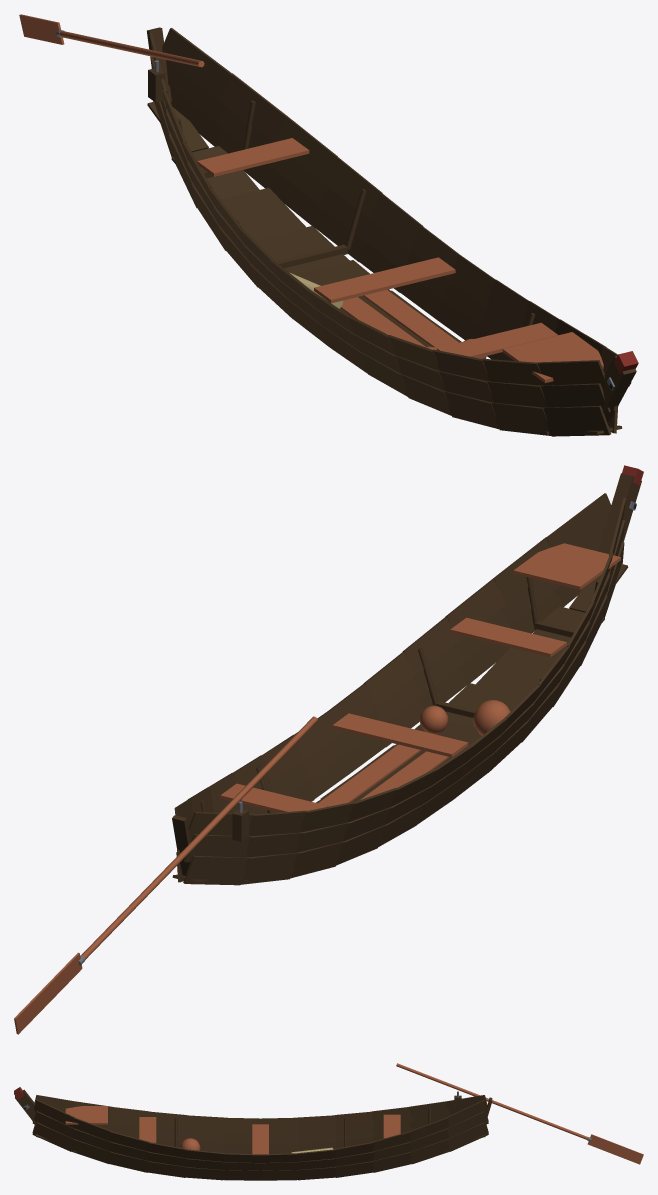
Rendered from vietnamese-sampan.glb.
The picture shows the model from 3 angles, top to bottom: view 1: azimuth 30°, elevation 25°; view 2: azimuth 150°, elevation 25°; view 3: azimuth 270°, elevation 25°; orthographic projection. The views are drawn at different scales.
Visible parts, largest first — view 1: Mesh_Bench_1, Mesh_ForwardDeck, Mesh_PlankMesh_0_2_R, Mesh_Bench_0, Mesh_PlankMesh_1_2_R, Mesh_Bench_2, Mesh_DeckSlatR, Mesh_PlankMesh_11_0_L, Mesh_PlankMesh_3_2_R, Mesh_PlankMesh_2_2_R, Mesh_PlankMesh_4_2_R, Mesh_PlankMesh_11_2_L (+43 smaller); view 2: Mesh_ForwardDeck, Mesh_Bench_1, Mesh_OarShaft, Mesh_Bench_2, Mesh_DeckSlatR, Mesh_PlankMesh_11_2_R, Mesh_PlankMesh_0_0_L, Mesh_PlankMesh_8_2_R, Mesh_PlankMesh_9_2_R, Mesh_Bench_0, Mesh_PlankMesh_7_2_R, Mesh_OarBlade (+28 smaller); view 3: Mesh_OarShaft, Mesh_ForwardDeck, Mesh_OarBlade, Mesh_PlankMesh_1_2_L, Mesh_PlankMesh_3_2_L, Mesh_PlankMesh_4_2_L, Mesh_PlankMesh_7_2_L, Mesh_PlankMesh_9_2_L, Mesh_PlankMesh_0_0_R, Mesh_PlankMesh_11_0_R, Mesh_PlankMesh_1_0_R, Mesh_PlankMesh_10_0_R (+56 smaller).
Part boxes in pixels (left/top/right/bottom): Mesh_Bench_1: left=314, top=257, right=455, bottom=303; Mesh_ForwardDeck: left=502, top=332, right=603, bottom=382; Mesh_PlankMesh_0_2_R: left=162, top=28, right=233, bottom=100; Mesh_Bench_0: left=197, top=138, right=309, bottom=176; Mesh_PlankMesh_1_2_R: left=219, top=73, right=288, bottom=142; Mesh_Bench_2: left=437, top=322, right=557, bottom=357; Mesh_DeckSlatR: left=363, top=290, right=458, bottom=347; Mesh_PlankMesh_11_0_L: left=542, top=405, right=611, bottom=436; Mesh_PlankMesh_3_2_R: left=324, top=157, right=382, bottom=219; Mesh_PlankMesh_2_2_R: left=275, top=117, right=337, bottom=183; Mesh_PlankMesh_4_2_R: left=369, top=193, right=422, bottom=251; Mesh_PlankMesh_11_2_L: left=536, top=360, right=605, bottom=389; Mesh_ForwardDeck: left=513, top=543, right=620, bottom=589; Mesh_Bench_1: left=332, top=713, right=468, bottom=757; Mesh_OarShaft: left=81, top=716, right=317, bottom=959; Mesh_Bench_2: left=450, top=617, right=566, bottom=657; Mesh_DeckSlatR: left=318, top=744, right=420, bottom=806; Mesh_PlankMesh_11_2_R: left=546, top=493, right=611, bottom=547; Mesh_PlankMesh_0_0_L: left=183, top=855, right=249, bottom=885; Mesh_PlankMesh_8_2_R: left=402, top=617, right=458, bottom=677; Mesh_PlankMesh_9_2_R: left=445, top=579, right=506, bottom=642; Mesh_Bench_0: left=220, top=783, right=327, bottom=812; Mesh_PlankMesh_7_2_R: left=363, top=652, right=415, bottom=707; Mesh_OarBlade: left=14, top=952, right=82, bottom=1034; Mesh_OarShaft: left=396, top=1063, right=587, bottom=1139; Mesh_ForwardDeck: left=65, top=1106, right=107, bottom=1124; Mesh_OarBlade: left=587, top=1134, right=643, bottom=1164; Mesh_PlankMesh_1_2_L: left=409, top=1101, right=449, bottom=1122; Mesh_PlankMesh_3_2_L: left=334, top=1111, right=374, bottom=1130; Mesh_PlankMesh_4_2_L: left=297, top=1115, right=336, bottom=1131; Mesh_PlankMesh_7_2_L: left=184, top=1115, right=223, bottom=1131; Mesh_PlankMesh_9_2_L: left=109, top=1107, right=149, bottom=1125; Mesh_PlankMesh_0_0_R: left=446, top=1122, right=488, bottom=1151; Mesh_PlankMesh_11_0_R: left=32, top=1122, right=74, bottom=1151; Mesh_PlankMesh_1_0_R: left=409, top=1139, right=450, bottom=1164; Mesh_PlankMesh_10_0_R: left=71, top=1139, right=112, bottom=1163.
Bounding box in the file's own units: 0.93 × 1.09 × 6.71.
Materials: 1 (1 with a texture image).
